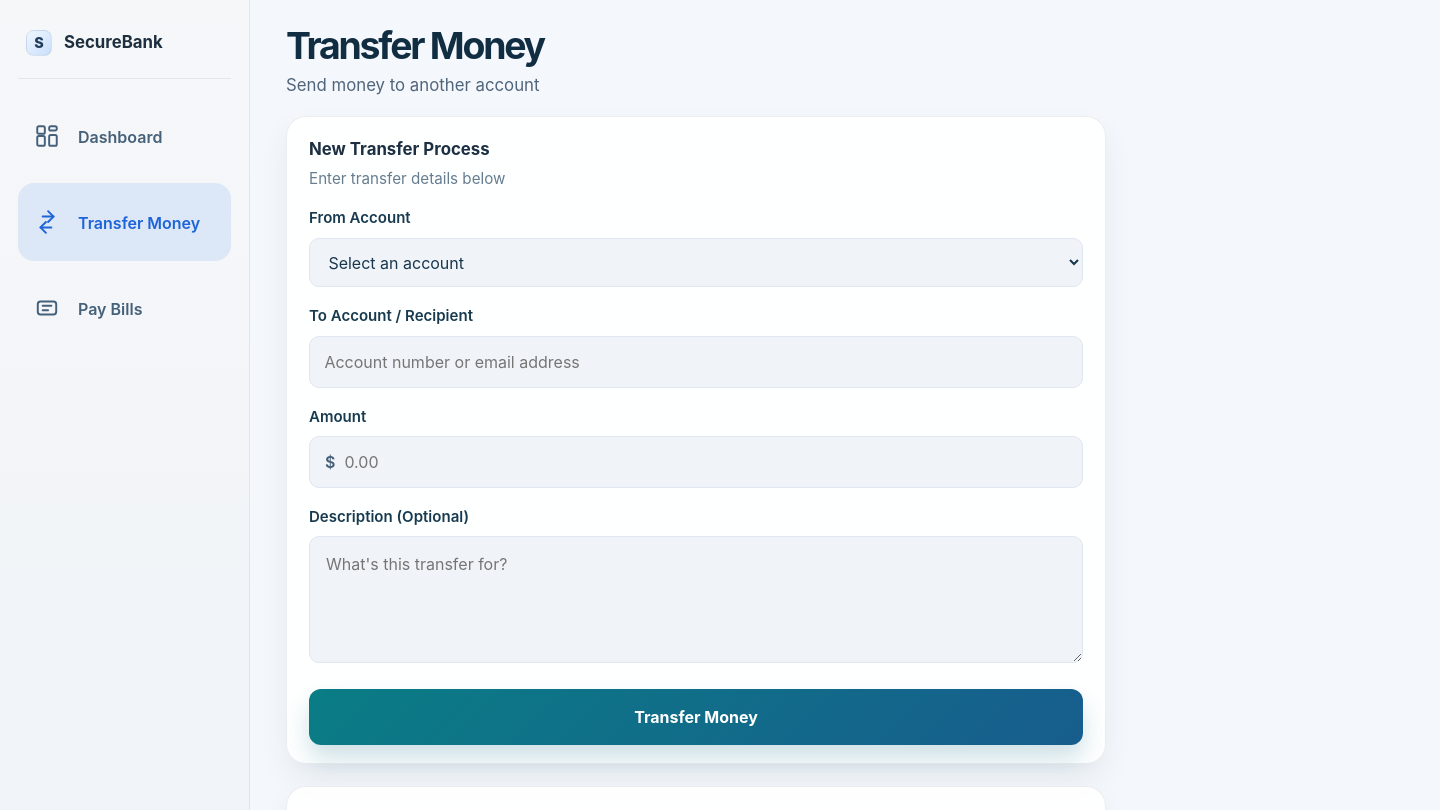
Signup screen › blocks a zero-value transfer
This screenshot has width=1440, height=810.
Select "Checking (...1001) - $2450.75" in the dropdown named "source account": (696, 263) [309, 238, 1083, 287]
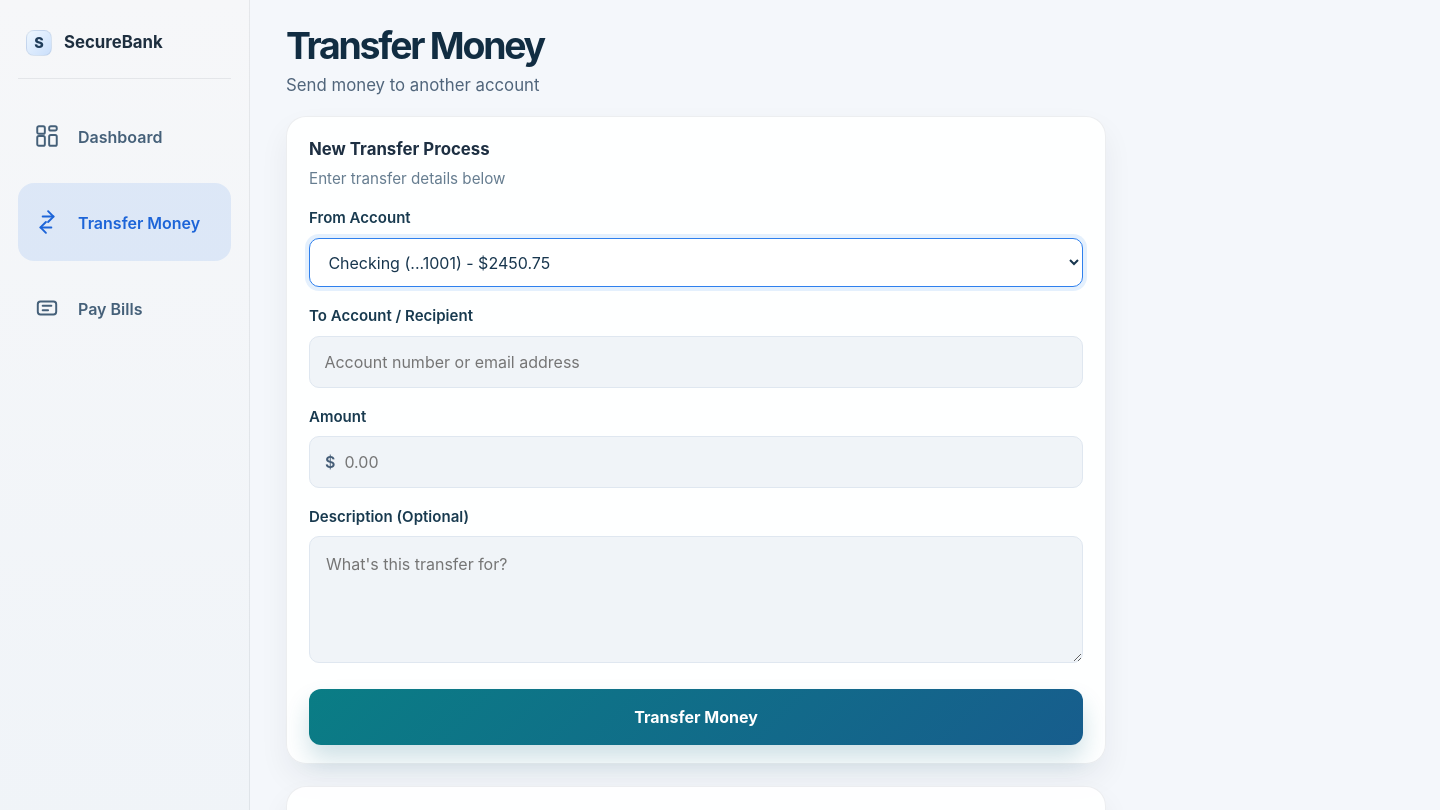
In the field labelled "To Account / Recipient": (696, 362) [309, 336, 1083, 388], type "ACC-3001"
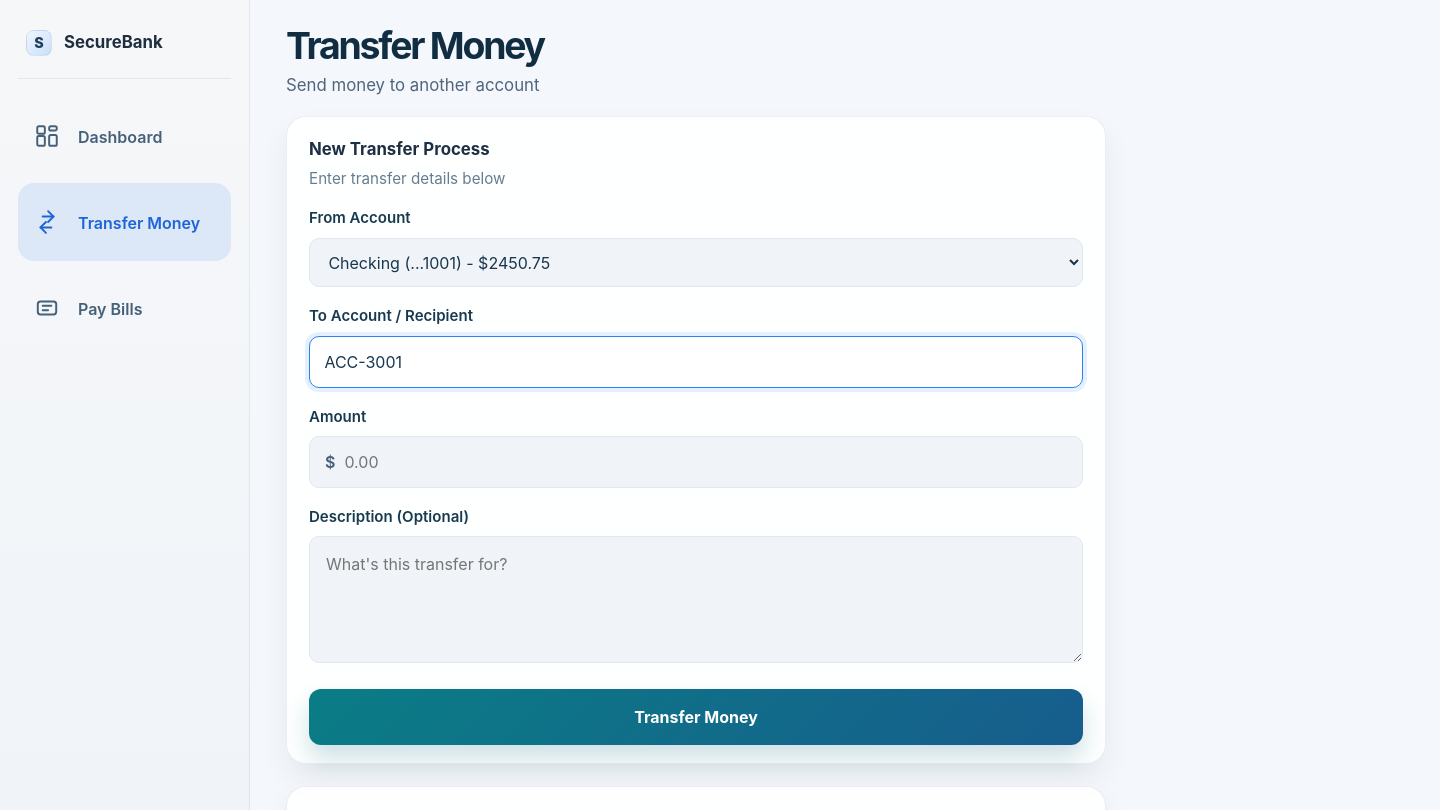
In the number field labelled "Amount": (696, 462) [309, 436, 1083, 488], type "0"
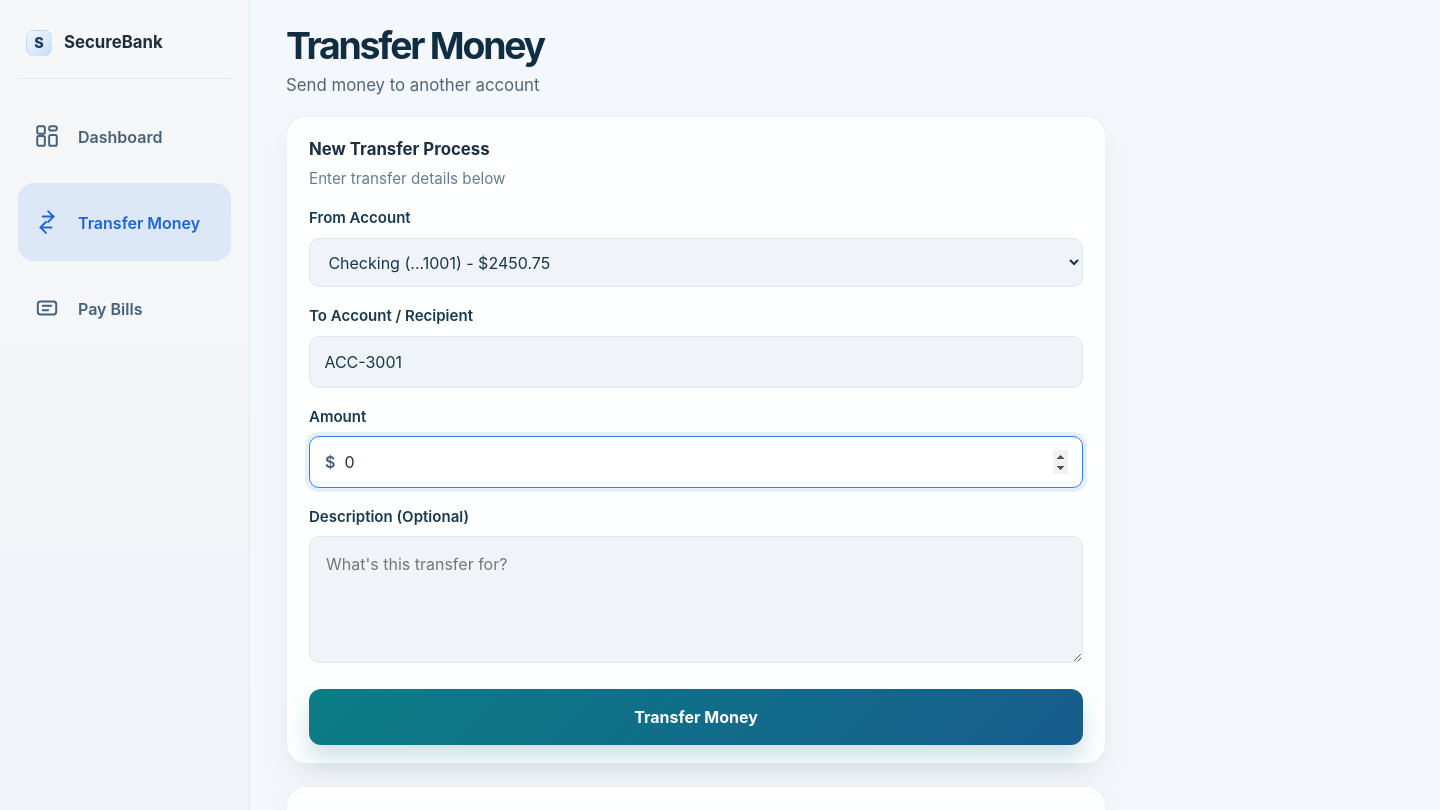
Click the button with aria-label "submit transfer": (696, 717) [309, 689, 1083, 745]
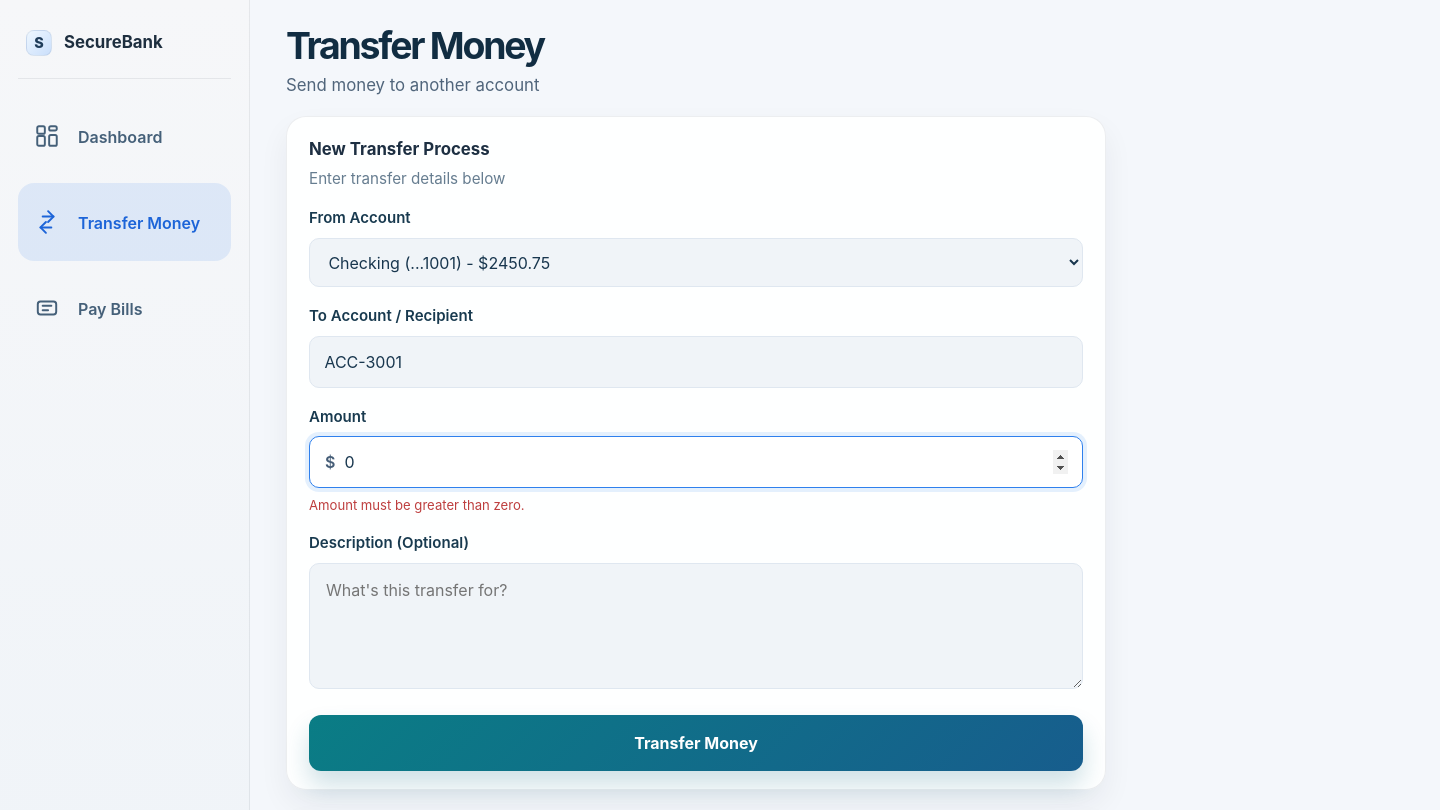
Expected: the text "Amount must be greater than zero." is shown, [309, 497, 524, 513]
